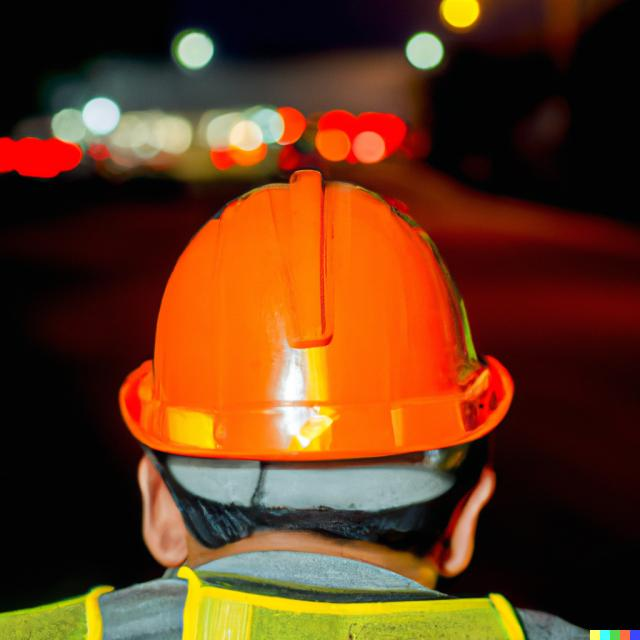Reflective-Jacket: (123, 177, 520, 466), (13, 541, 569, 635)
Safety-Helmet: (116, 178, 516, 466)
